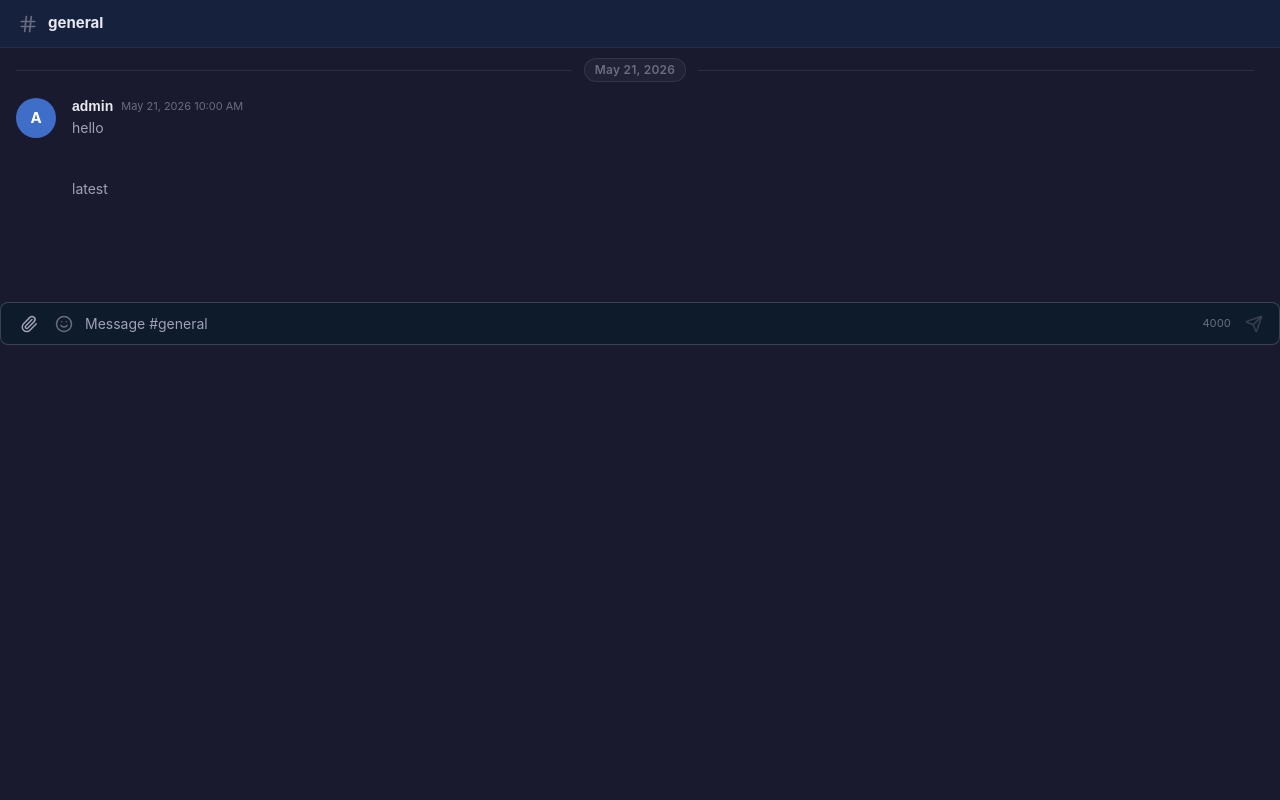
ChatArea regressions › opens an author profile and closes it with Escape
Click the button named "View profile for admin" at [36, 118], box [16,98,56,138]
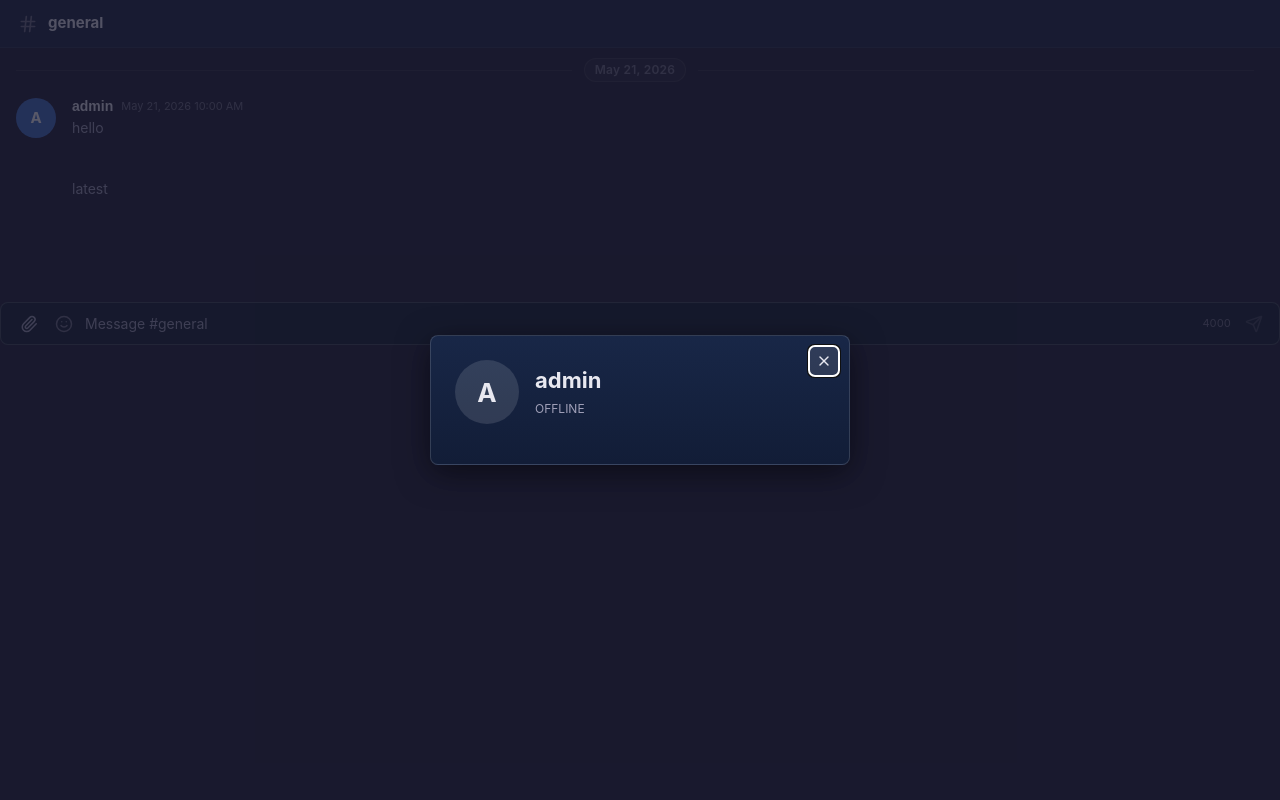
Now the dialog "admin" is shown, box [430,335,850,465]
Press Escape
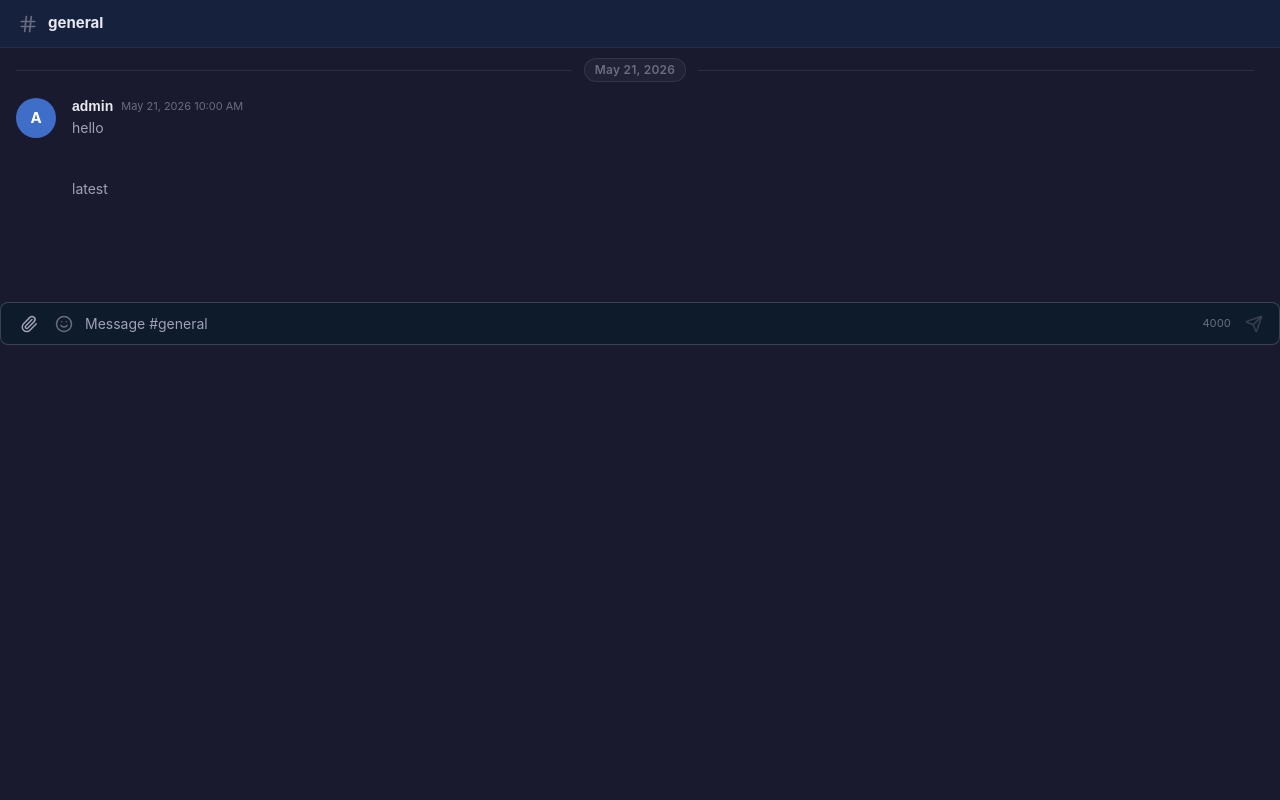
Now the dialog is gone
